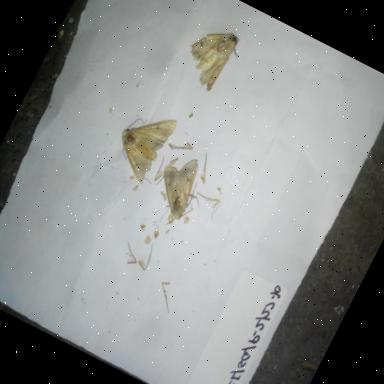abw: (169, 10, 254, 108), (98, 98, 182, 194), (145, 146, 218, 228)
